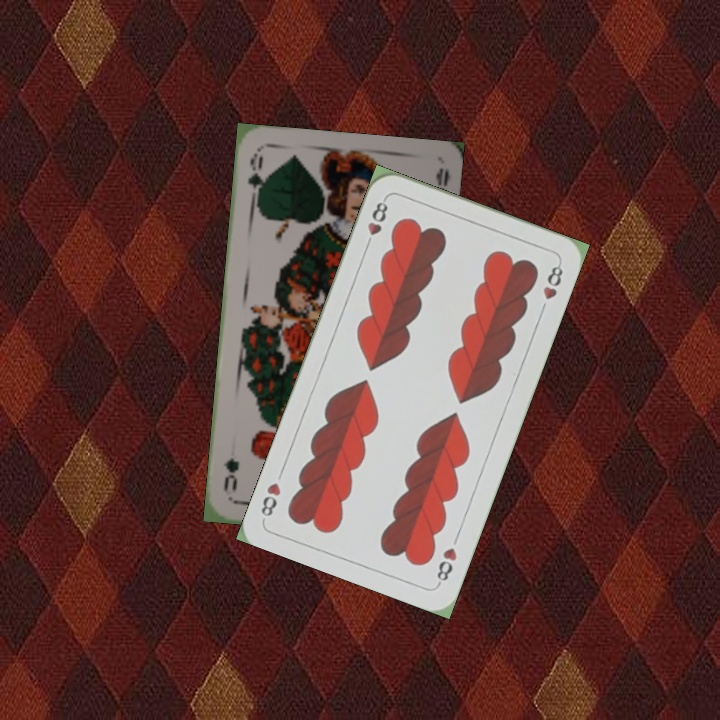GO: (243, 149, 266, 209)
H8: (361, 194, 391, 251), (432, 543, 460, 588)
